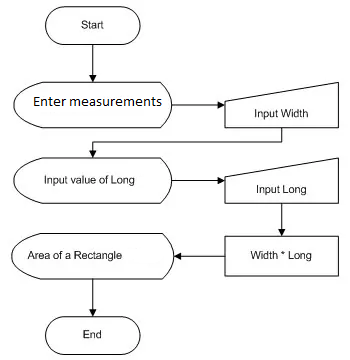arrow: (87, 127, 285, 160), (169, 173, 227, 188), (173, 250, 227, 263), (168, 98, 226, 110), (87, 277, 98, 317), (87, 43, 98, 82)
process: (8, 229, 177, 281), (11, 154, 174, 207), (11, 79, 174, 129), (222, 79, 342, 130), (221, 156, 341, 206), (222, 233, 341, 279)
terminator: (43, 3, 142, 48), (44, 314, 143, 356)
text: (32, 95, 163, 108), (25, 247, 123, 262), (42, 172, 136, 187), (247, 247, 313, 263), (254, 182, 309, 196), (253, 106, 309, 119), (79, 17, 105, 32), (81, 326, 104, 341)
